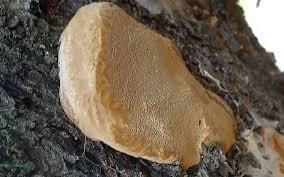Plum tinder fungus: (53, 0, 241, 167)
